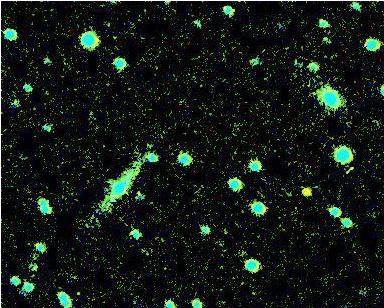star: (293, 178, 323, 208)
